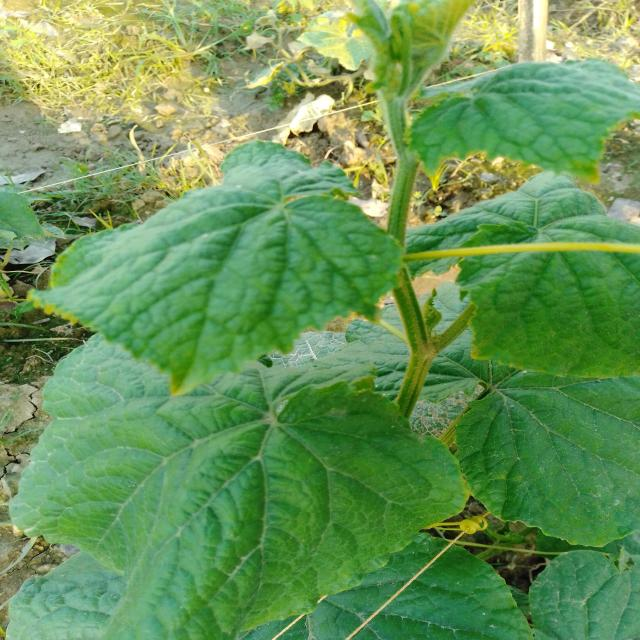cucumber_healthy: (7, 329, 471, 640), (26, 136, 410, 402), (393, 162, 640, 384), (448, 368, 640, 554), (401, 52, 640, 192), (305, 542, 640, 640)
